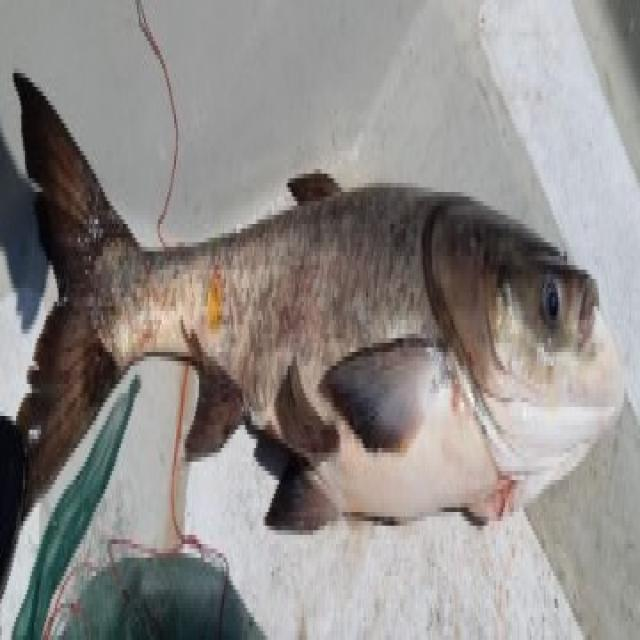Big-Head-Carp: (5, 29, 629, 618)
